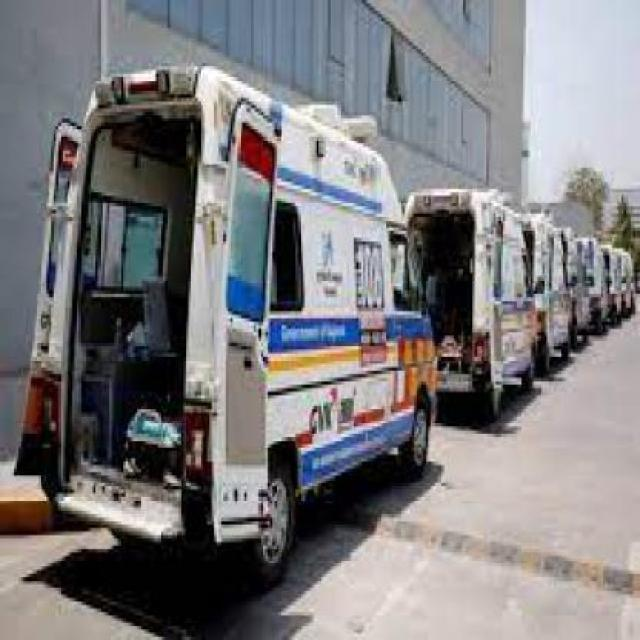Ambulance: (12, 59, 636, 596), (398, 186, 540, 423)
